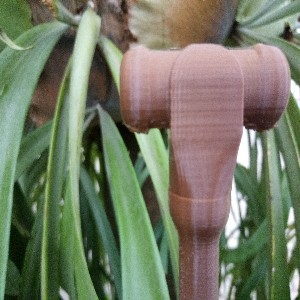palu: (118, 42, 291, 300)
